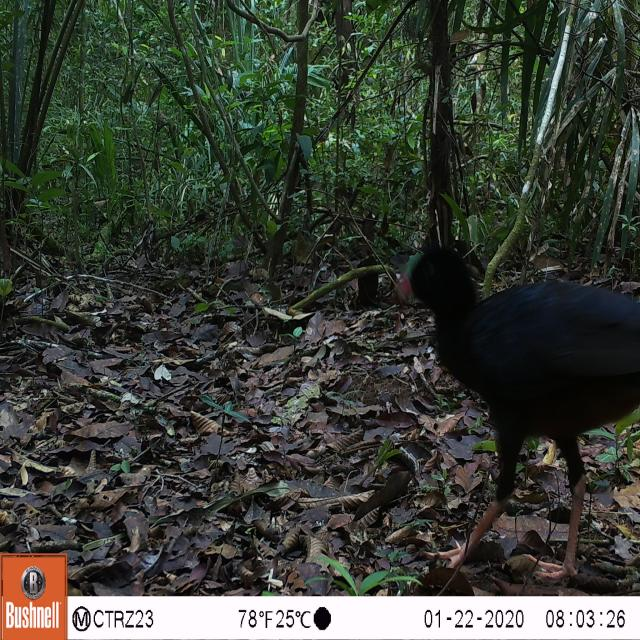Salvins Curassow: (388, 236, 640, 588)
